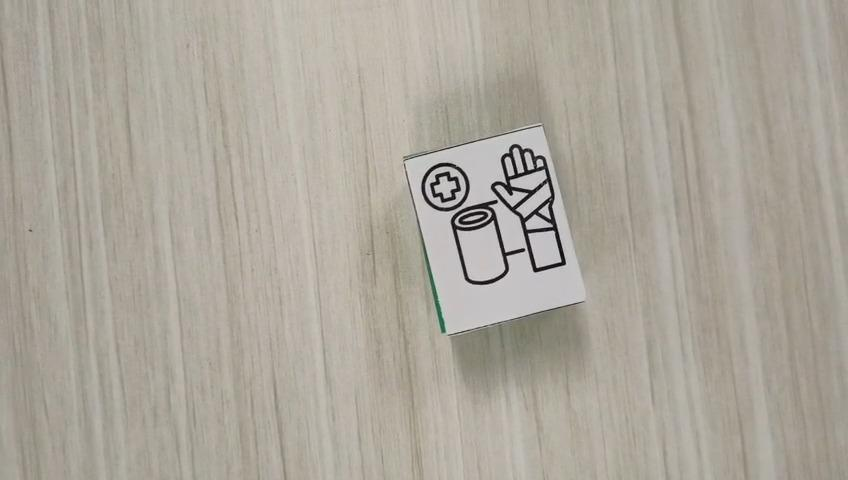Bandages: (404, 122, 588, 338)
